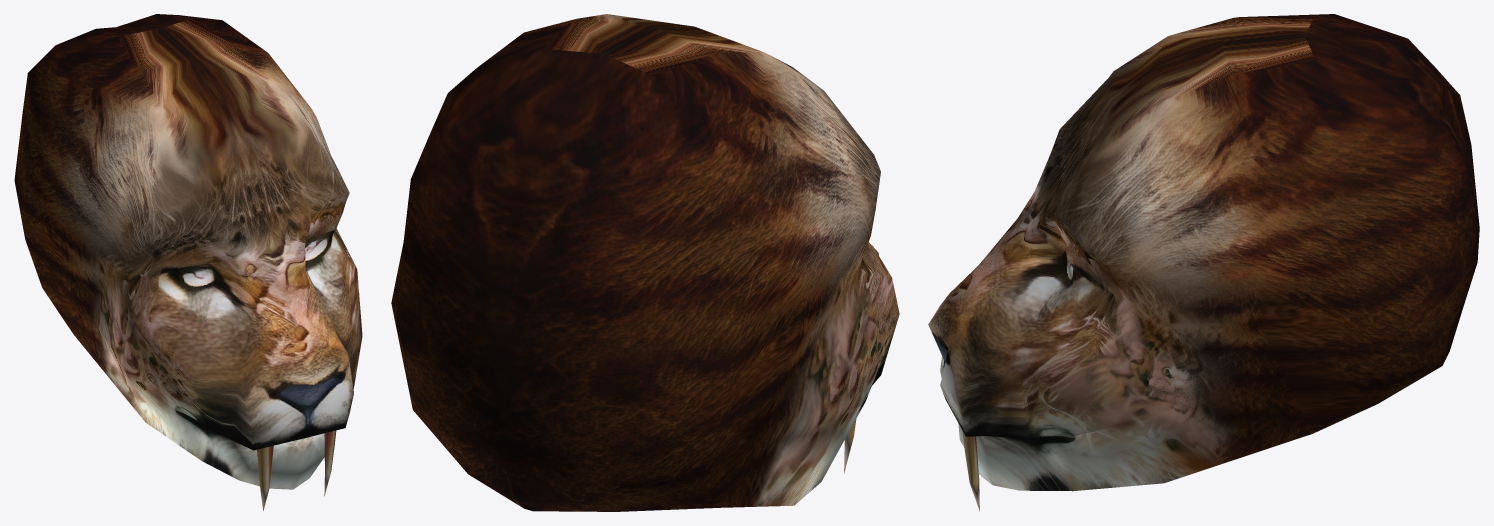
Rendered from b_v_khajiit_f_head_01.glb.
The picture shows the model from 3 angles, left to right: view 1: azimuth 30°, elevation 25°; view 2: azimuth 150°, elevation 25°; view 3: azimuth 270°, elevation 25°; orthographic projection. The views are drawn at different scales.
Parts seen in each view (by area): view 1: Tri B_N_Khajiit_F_Head_02; view 2: Tri B_N_Khajiit_F_Head_02; view 3: Tri B_N_Khajiit_F_Head_02.
Boxes of the visible parts, x1,y1,x2,y2 form: Tri B_N_Khajiit_F_Head_02: [14, 14, 362, 510]; Tri B_N_Khajiit_F_Head_02: [391, 14, 899, 511]; Tri B_N_Khajiit_F_Head_02: [928, 14, 1479, 511].
Bounding box in the file's own units: 0.0971 × 0.1452 × 0.1582.
1 material, 1 textured.
